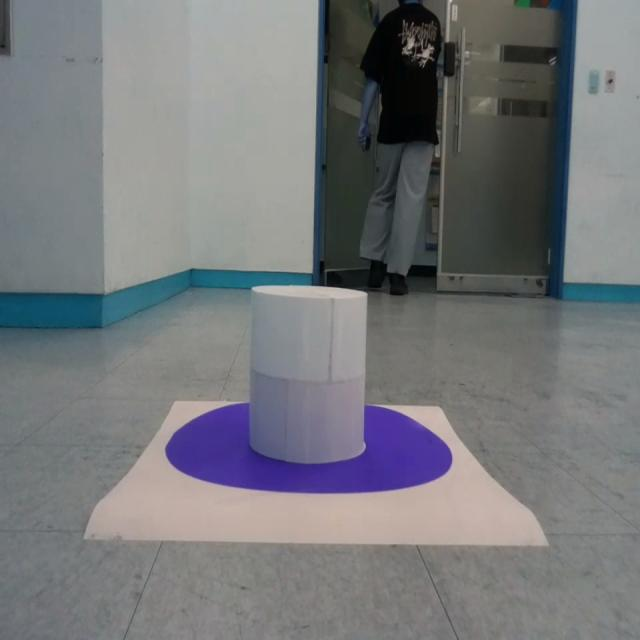cylinder: (248, 284, 367, 464)
